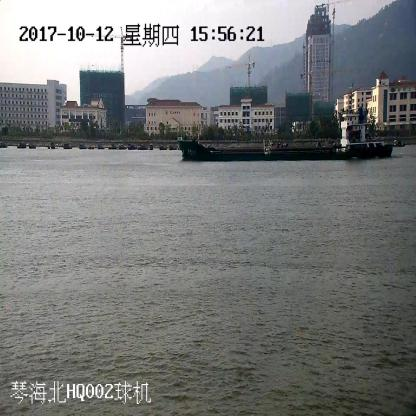Bulk Carrier: (178, 105, 392, 161)
